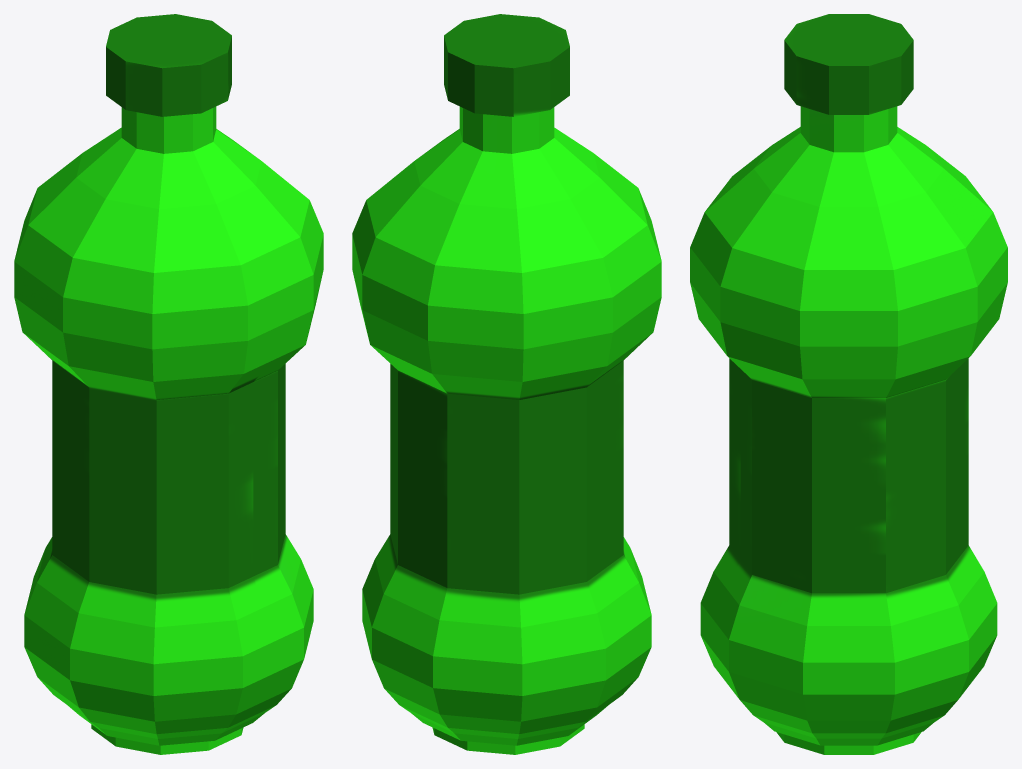
File: Green Bottle.glb
The picture shows the model from 3 angles, left to right: view 1: azimuth 30°, elevation 25°; view 2: azimuth 150°, elevation 25°; view 3: azimuth 270°, elevation 25°; orthographic projection.
Visible parts, largest first — view 1: Cylinder; view 2: Cylinder; view 3: Cylinder.
Part boxes in pixels (x1,y1,x2,y2): Cylinder: [14, 14, 323, 754]; Cylinder: [352, 14, 661, 754]; Cylinder: [690, 14, 1007, 754].
Size of the model in its own units: 3.79 by 9.45 by 3.98.
Materials: 1 (1 with a texture image).
